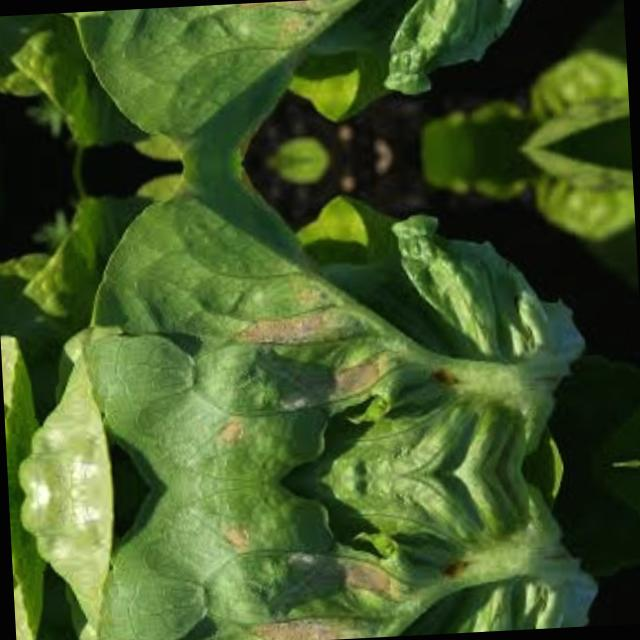Lettuce - Anthracnose: (59, 168, 482, 493), (73, 472, 490, 640), (48, 0, 464, 157)
